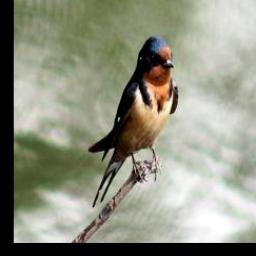Swallow: (92, 34, 181, 209)
